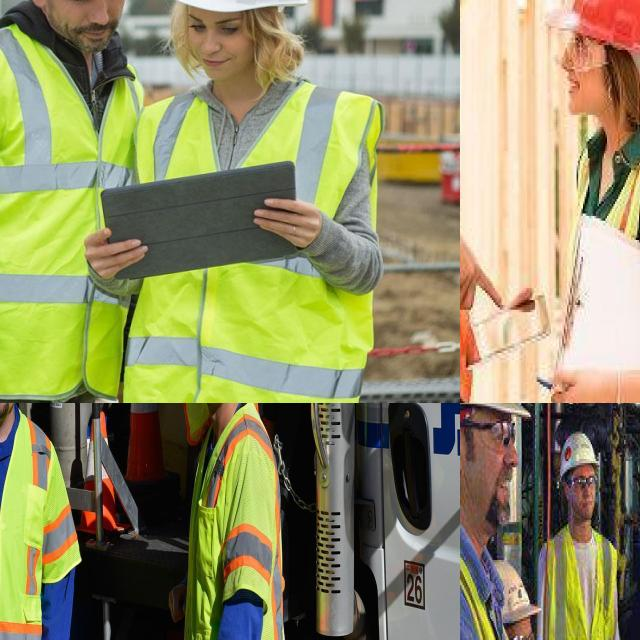No_Ear-Protection: (460, 417, 468, 476)
face_nomask: (556, 26, 637, 134), (467, 408, 521, 522), (175, 2, 258, 76), (52, 0, 134, 61), (573, 454, 601, 512)
glasses: (547, 16, 600, 74), (481, 417, 519, 450), (569, 471, 599, 492)
hand_noglove: (242, 178, 332, 264), (69, 228, 155, 290), (551, 348, 634, 403), (460, 204, 487, 329)
head_helmet: (560, 0, 640, 64), (558, 424, 603, 471)
person: (129, 0, 385, 403), (0, 0, 134, 403), (528, 0, 640, 403), (145, 403, 318, 640), (539, 406, 619, 640), (0, 403, 76, 640), (460, 403, 535, 640)
vest: (134, 80, 381, 403), (0, 22, 147, 403), (185, 408, 300, 640), (551, 117, 640, 403), (0, 408, 72, 640), (529, 522, 625, 640), (460, 530, 548, 640)
